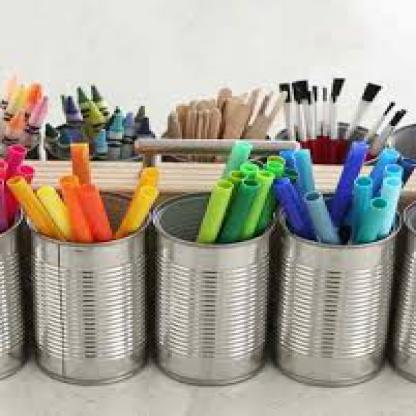Compsot: (19, 192, 149, 383), (149, 190, 267, 383), (273, 192, 391, 383), (391, 197, 414, 381), (0, 211, 23, 376)
